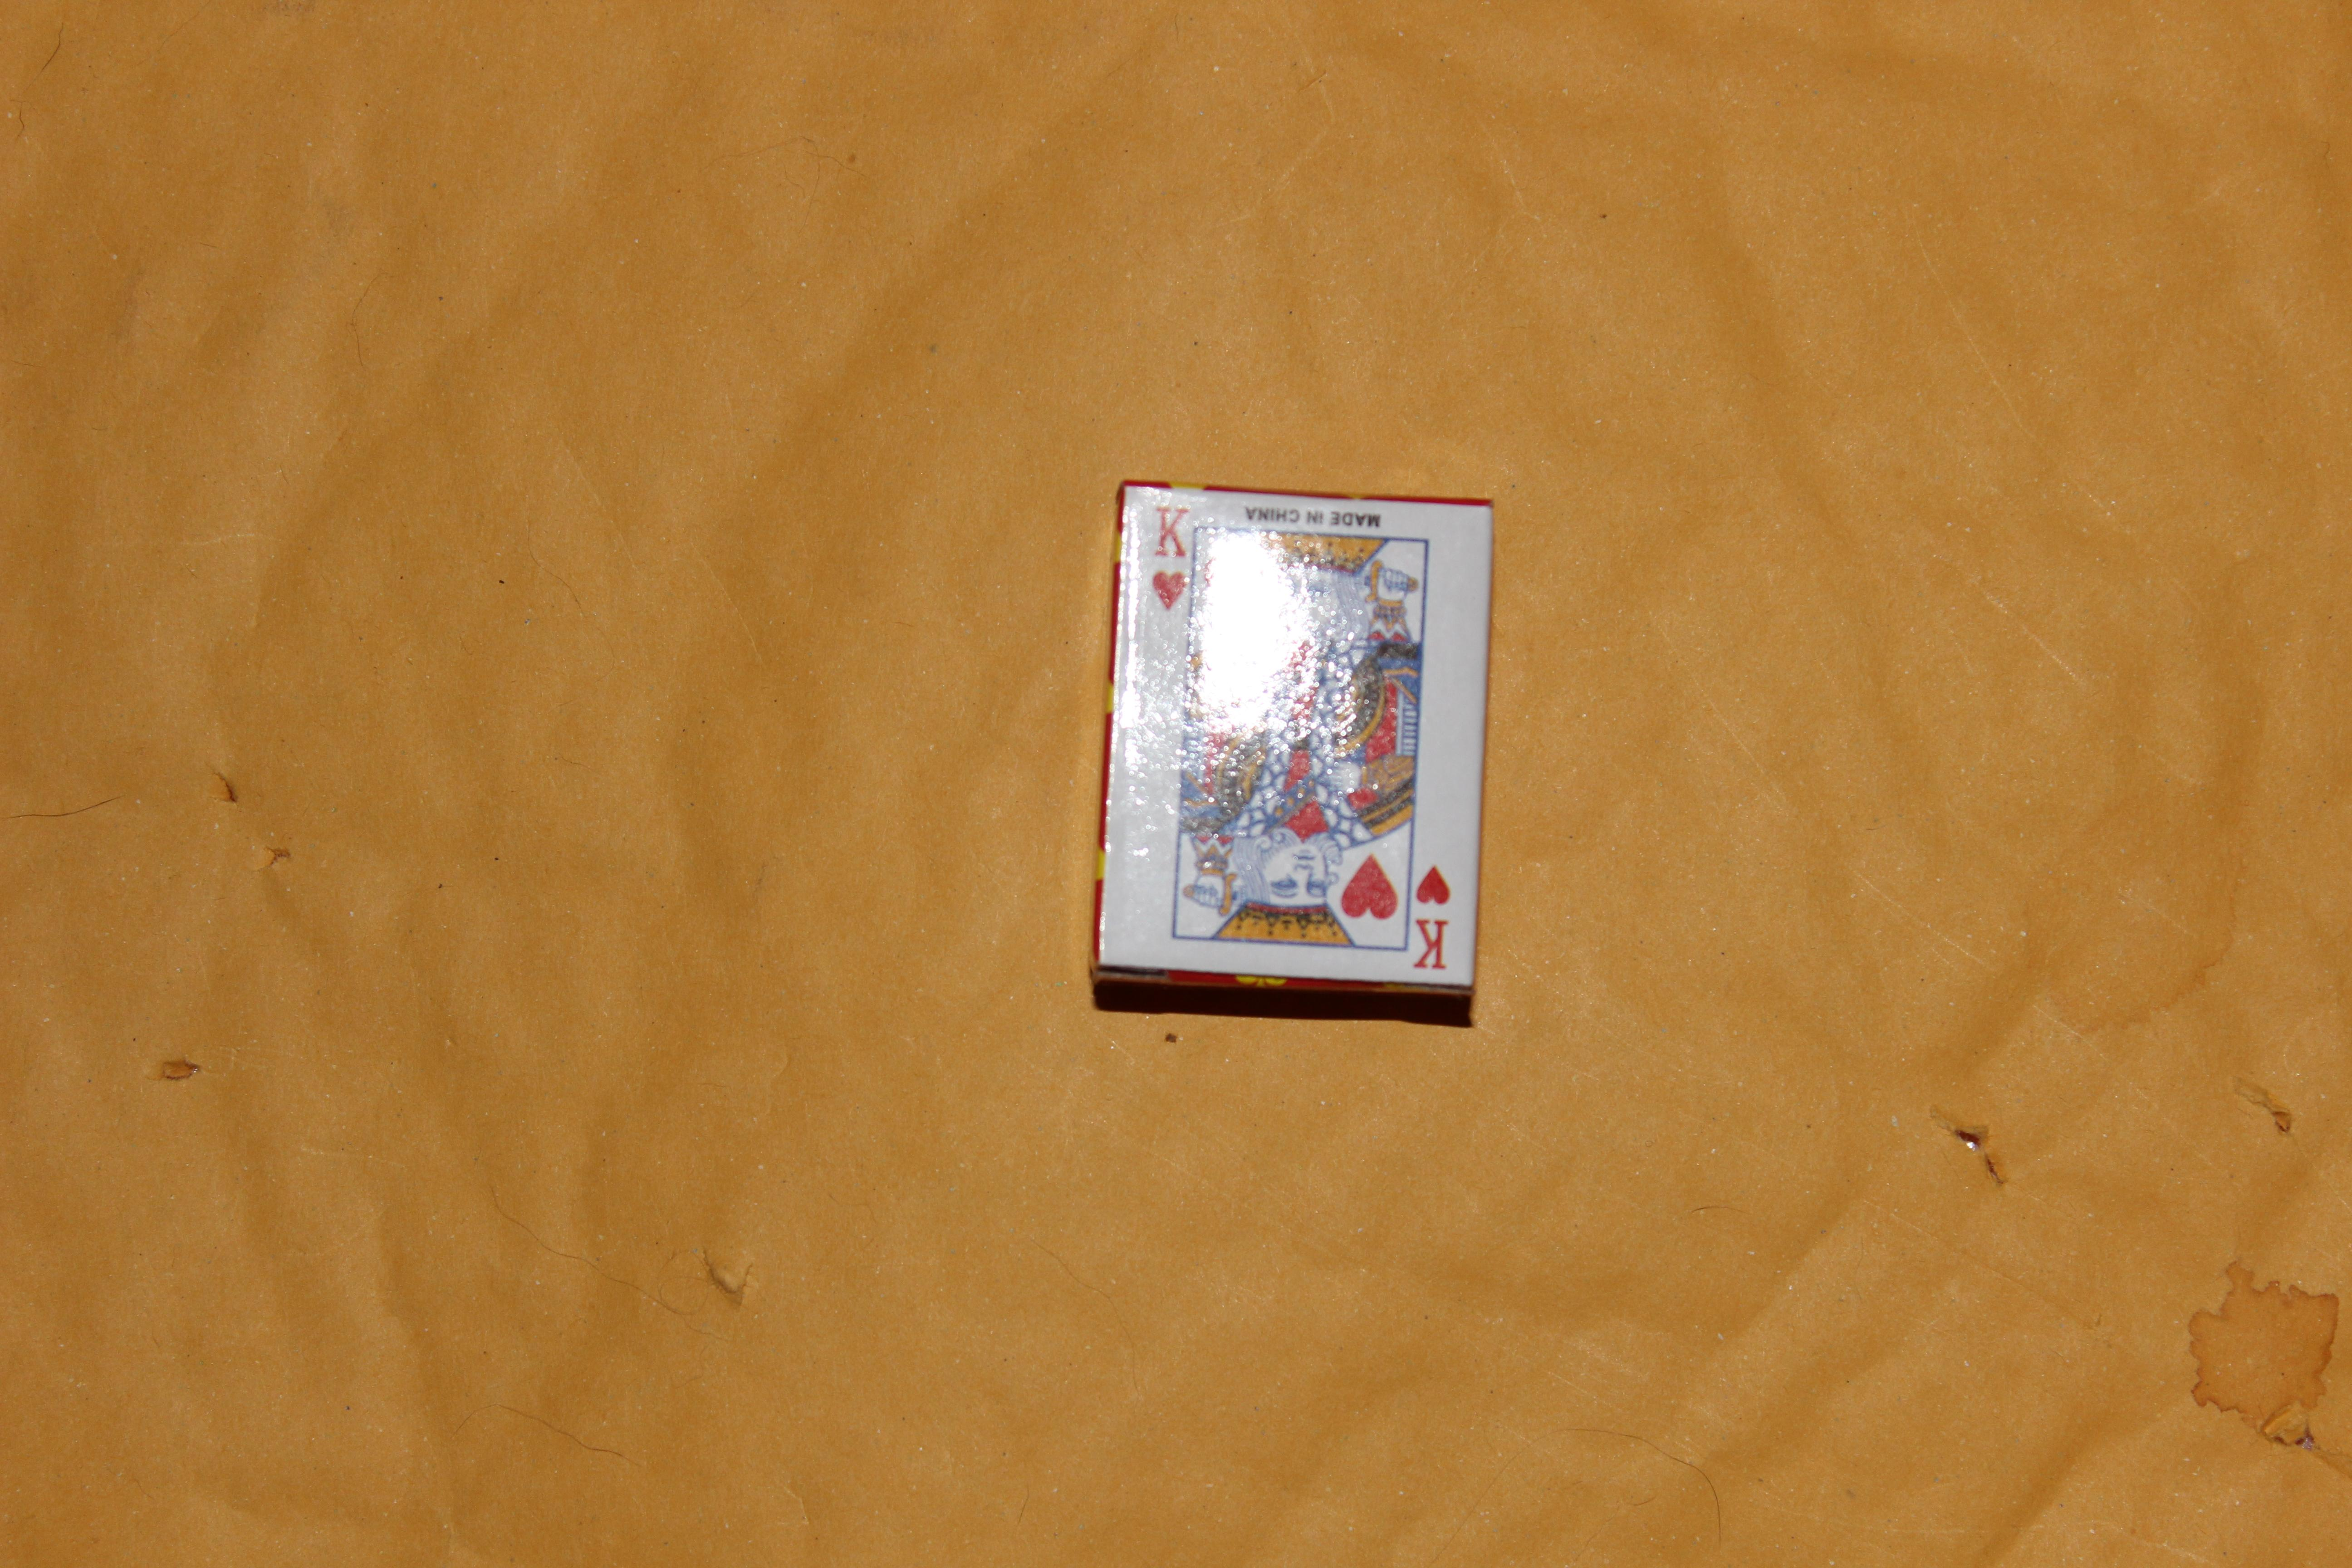miniCards: (1068, 445, 1524, 1071)
